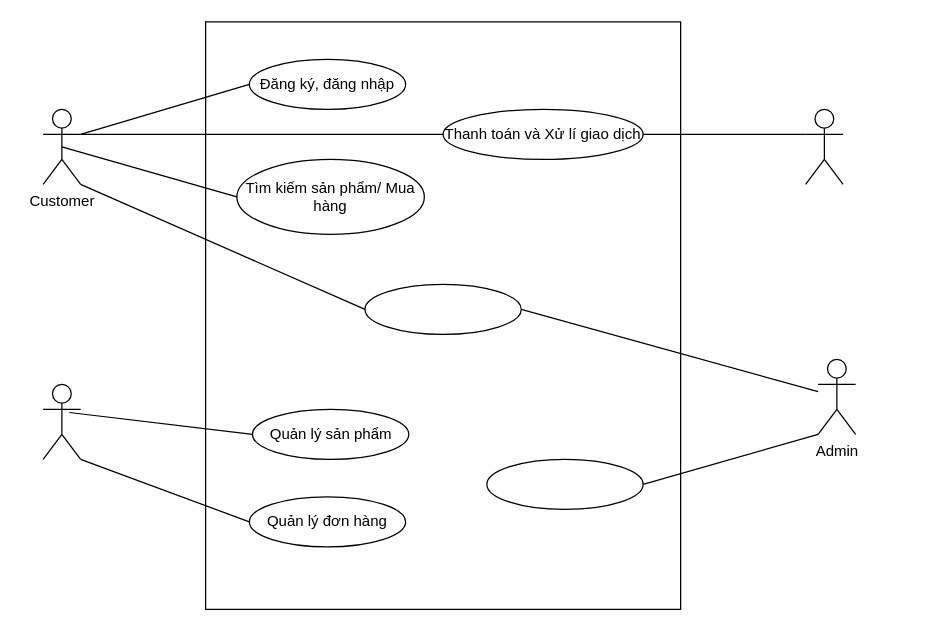
Image size: 939x631. Some labels were removed from this diagram. Here are the shapes that lost their labels. From the top down, the centre of each, then its label:
(x=823, y=146): Third-party payment service
(x=442, y=308): Hỗ trợ xử lí khiếu nại
(x=61, y=421): Shop owner
(x=564, y=483): Quản lý người dùng
